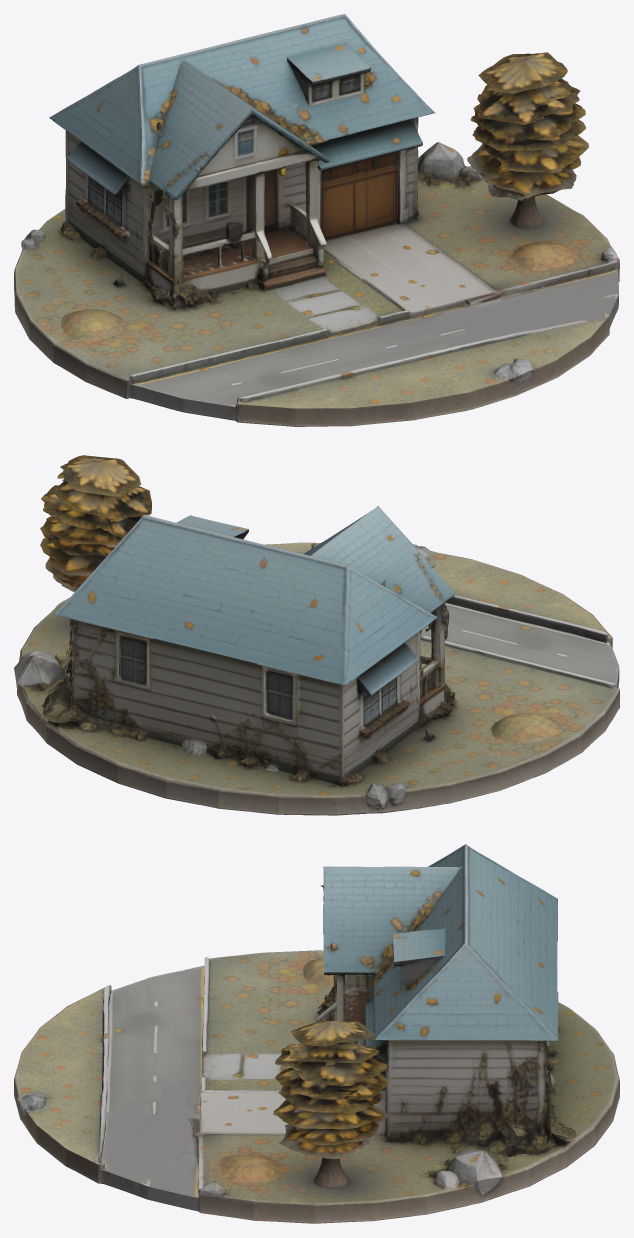
The model's file is edit.glb.
The picture shows the model from 3 angles, top to bottom: view 1: azimuth 30°, elevation 25°; view 2: azimuth 150°, elevation 25°; view 3: azimuth 270°, elevation 25°; orthographic projection.
Parts seen in each view (by area): view 1: world; view 2: world; view 3: world.
Part boxes in pixels (left/top/right/bottom): world: left=14, top=14, right=619, bottom=426; world: left=14, top=455, right=619, bottom=815; world: left=14, top=844, right=619, bottom=1223.
Bounding box in the file's own units: 0.9992 × 0.3697 × 1.
1 material, 1 textured.
